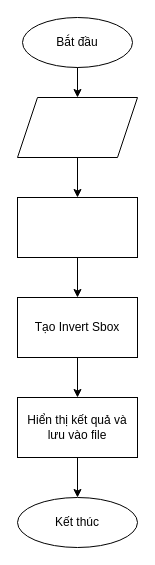
The diagram is 155 pixels wide and 565 high, and some of its shapes have lost their labels. The box of each missing label's shape, as (x1, y1, x2, y2) in pixels:
Nhập x0, r: (16, 96, 138, 158)
Tạo Sbox: (16, 196, 138, 258)
